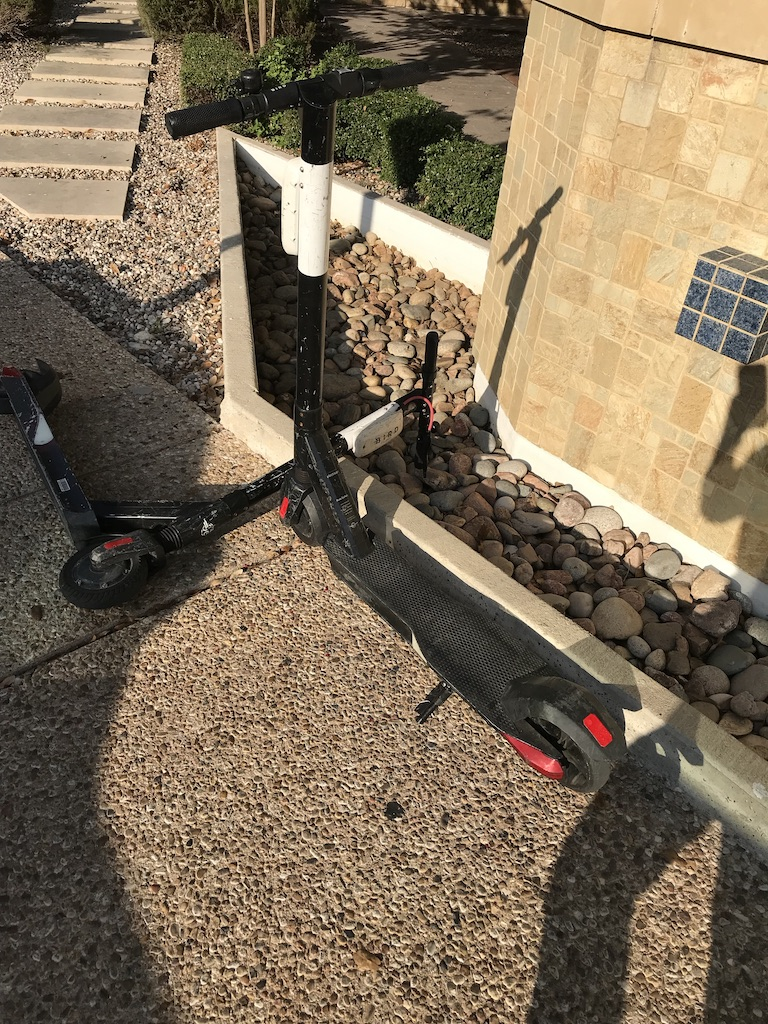scooter: (164, 60, 625, 797), (2, 359, 294, 616), (331, 332, 439, 477)
